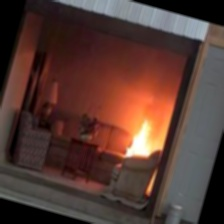fire: (115, 86, 173, 156)
